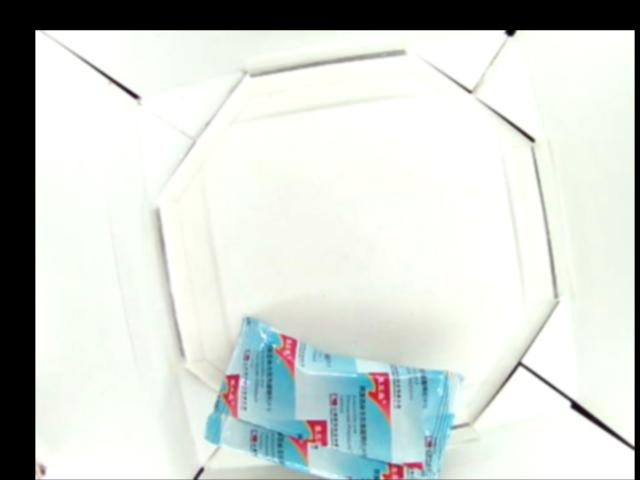Medicine: (206, 309, 464, 479)
